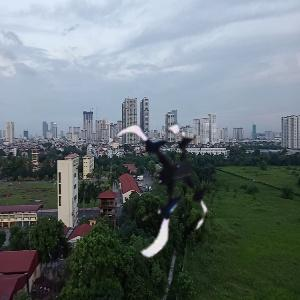drone: (98, 112, 230, 244)
